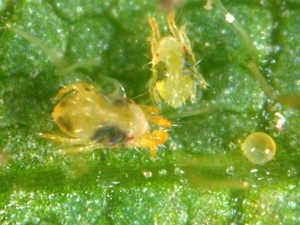Mites: (52, 72, 151, 166), (146, 13, 205, 117)
